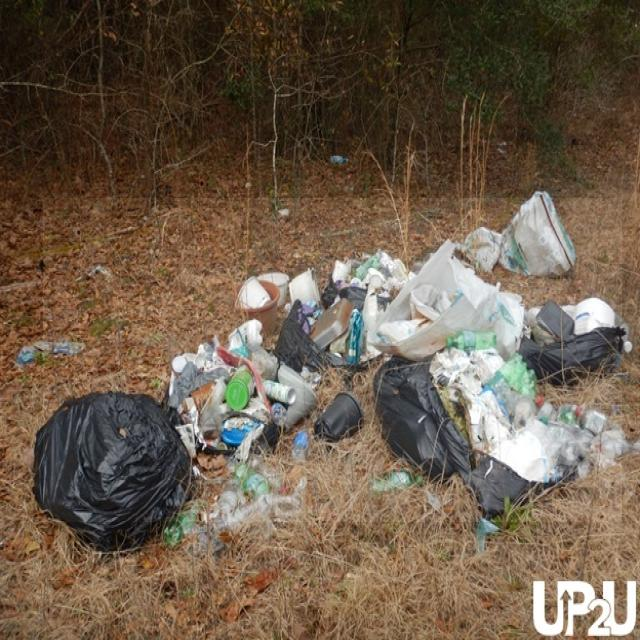dumping: (43, 198, 622, 522)
